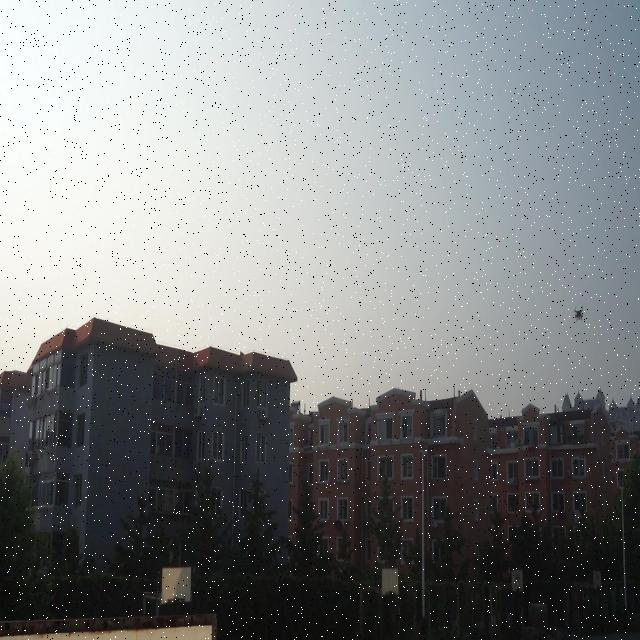UAV: (573, 304, 585, 322)
